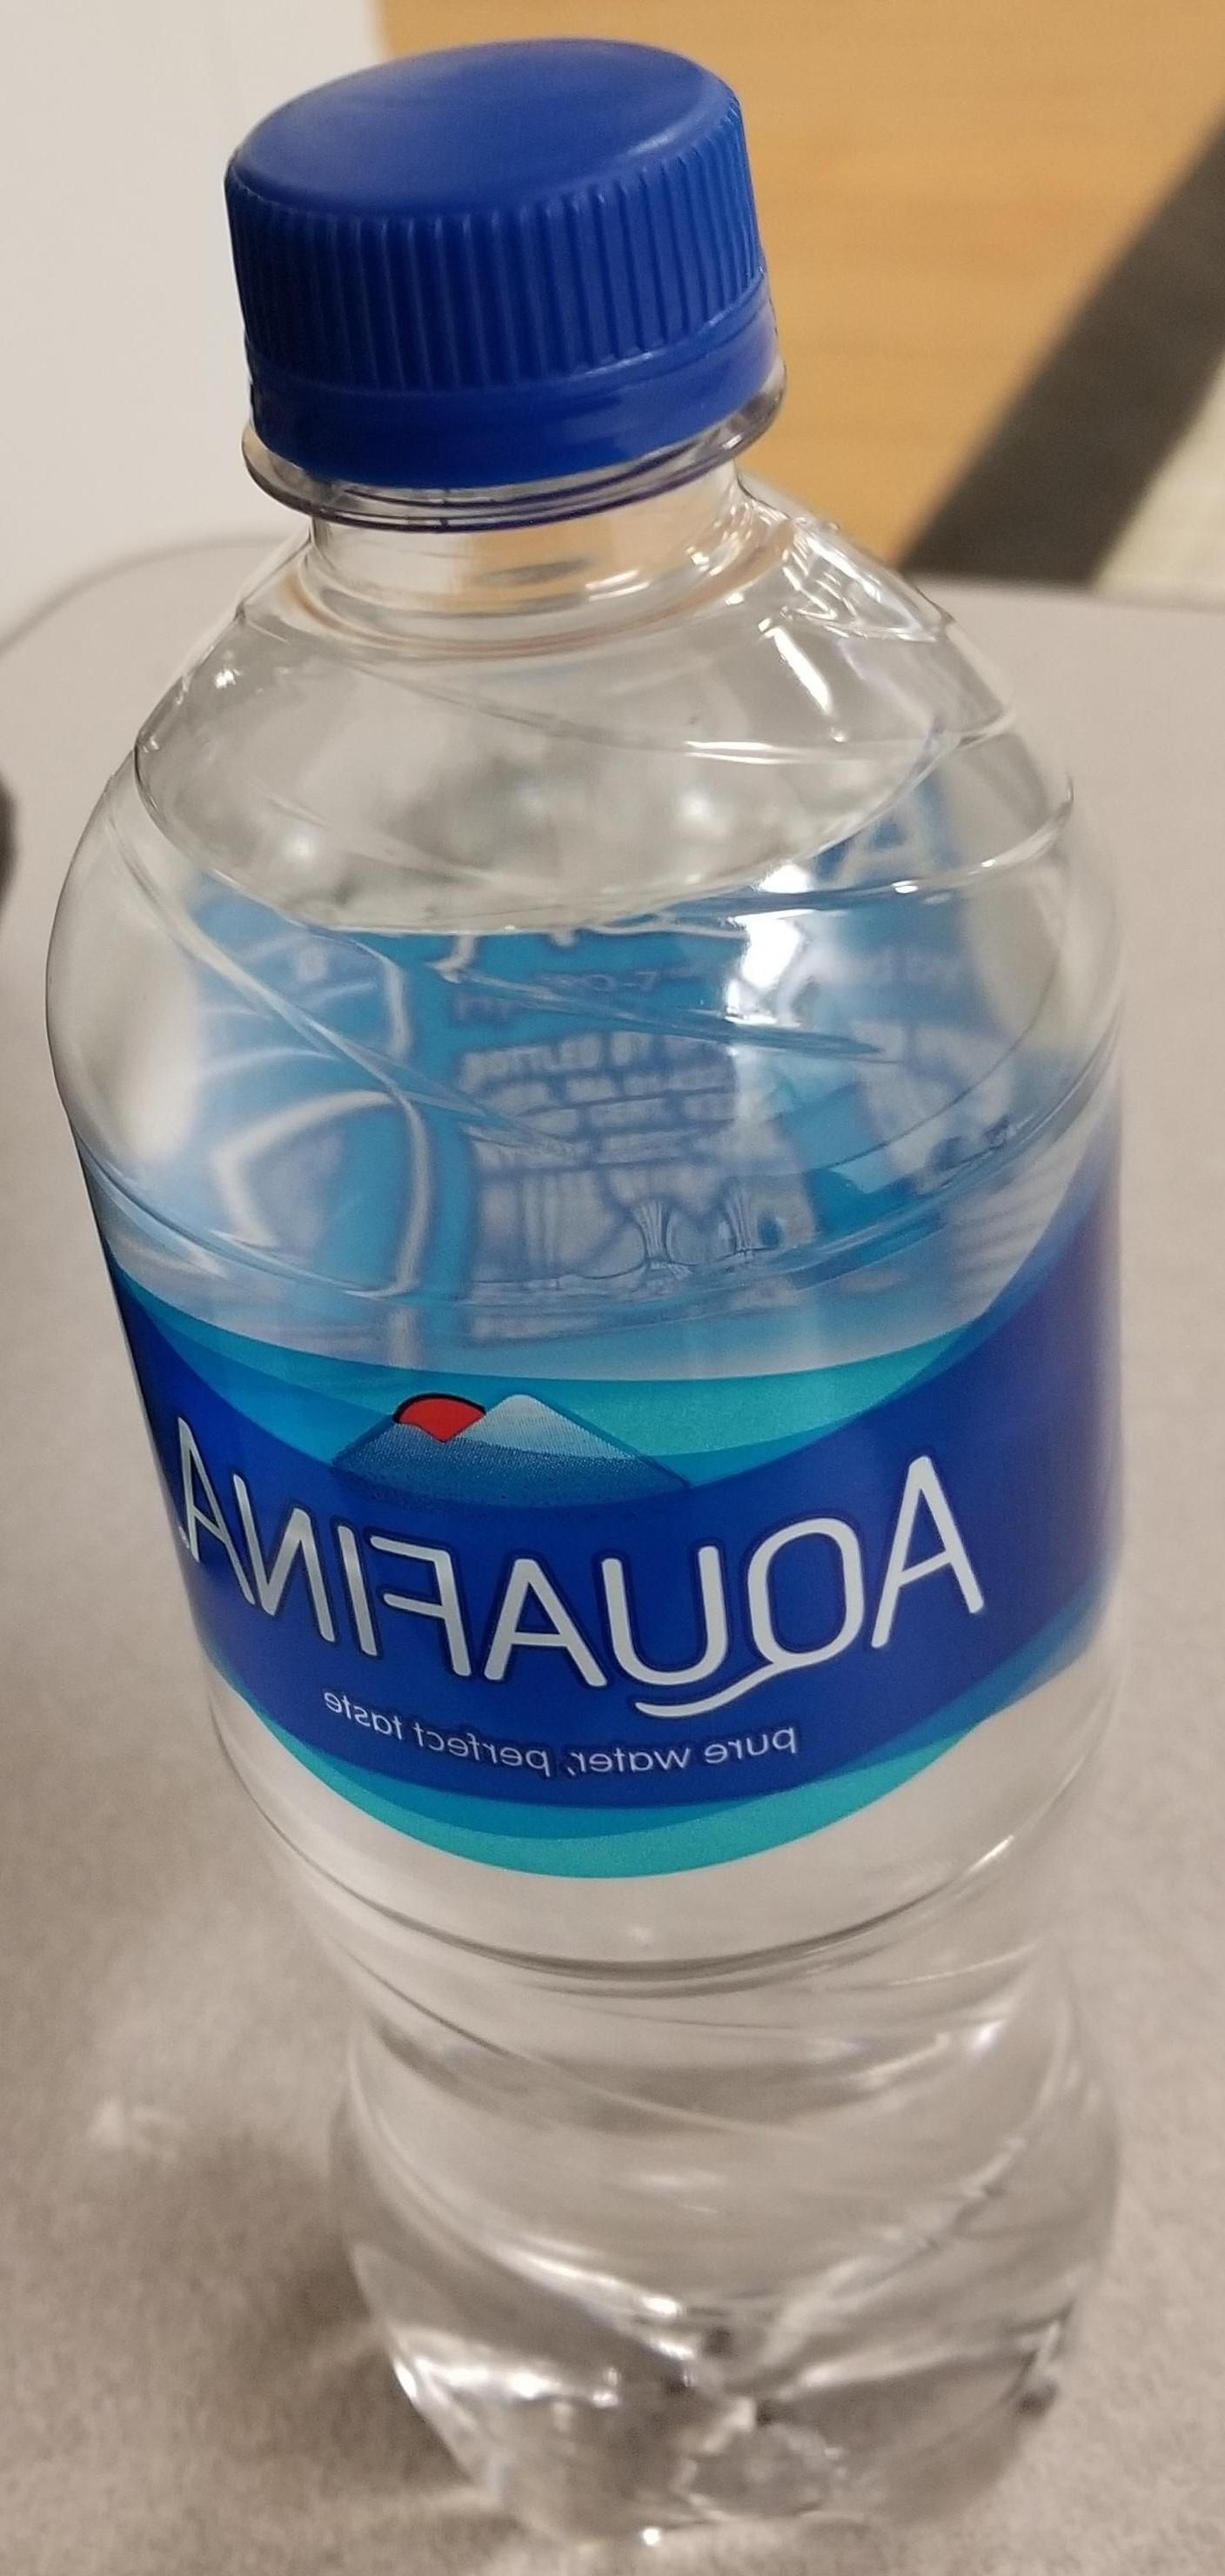bottle: (21, 174, 1225, 2469)
